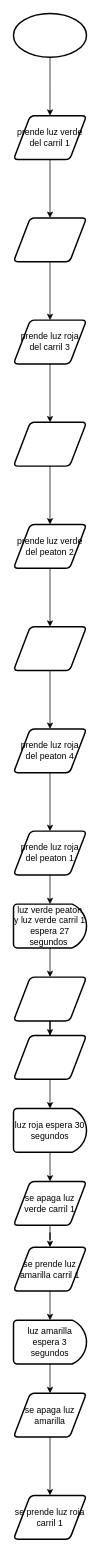
Image size: 99x1552. Some labels were removed from this diagram. The centre of each missing label's shape, as x and y in pixels:
iniciar: the point at 49,35
luz roja peaton 1 se prende: the point at 49,1057
luz verde peaton 1 se apaga: the point at 49,998
prende luz roja del carril 2: the point at 49,239
prende luz roja del carril 4: the point at 49,443
prende luz roja del peaton 3: the point at 49,648
